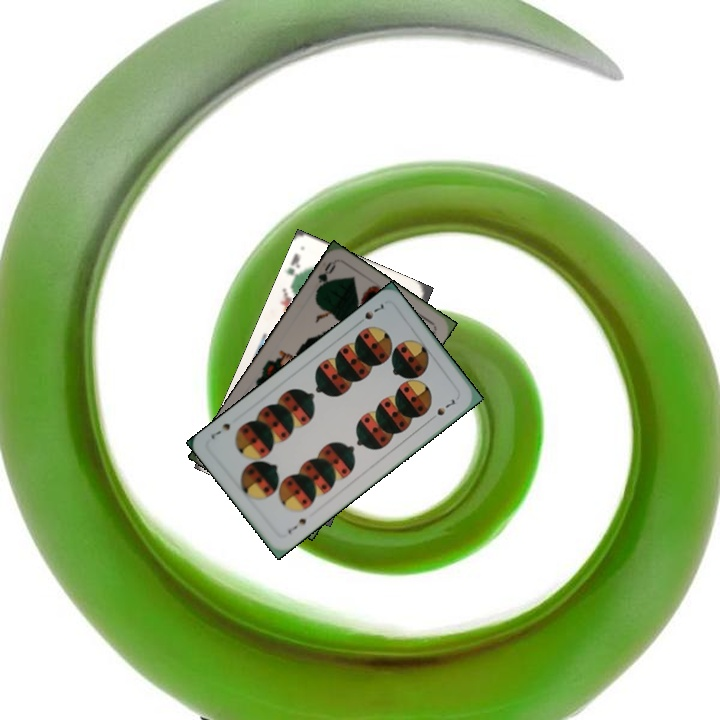GK: (282, 249, 304, 287)
GO: (312, 258, 338, 296)
S7: (353, 299, 388, 327), (284, 514, 310, 537)
